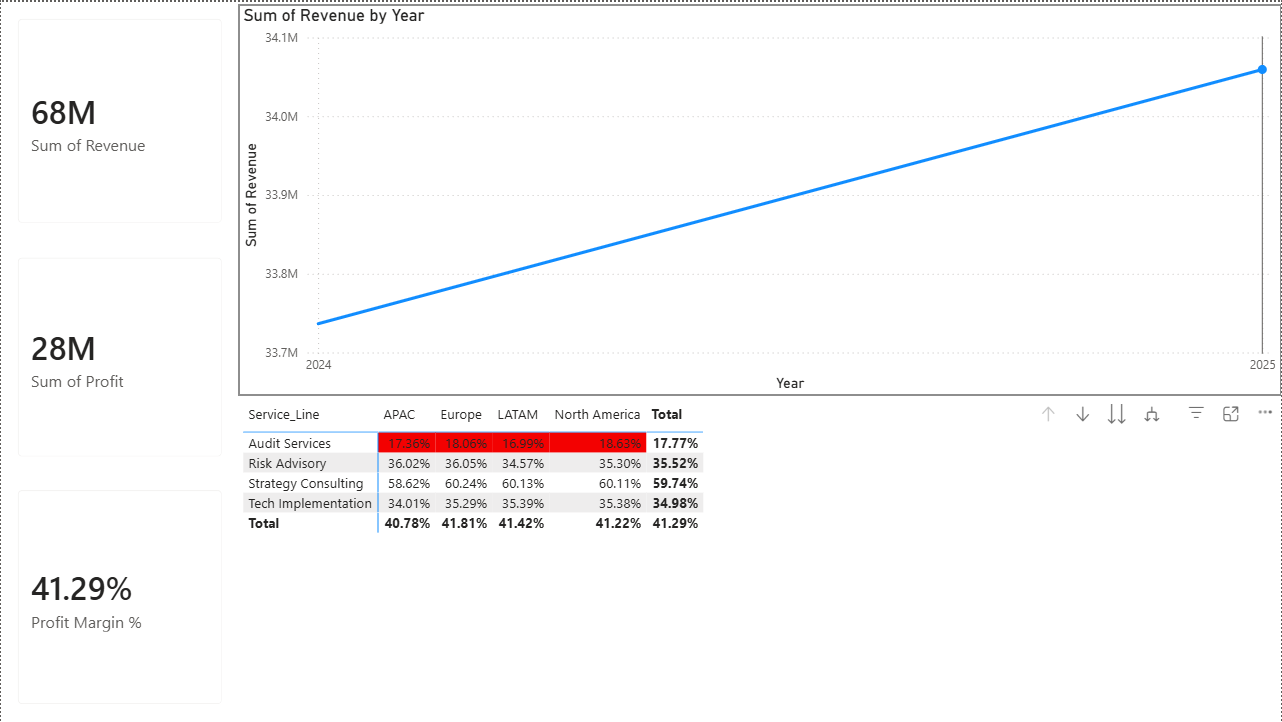

Layout of this report page (visuals, bound fields, positions):
{"tool":"powerbi","page":{"name":"Page 1","canvas":[1280,720],"ordinal":0},"visuals":[{"type":"cardVisual","fields":{"Data":["Sum(consulting_sales_data.Revenue)"]},"box":[0,0,238.3,238.3],"z":0},{"type":"cardVisual","fields":{"Data":["Sum(consulting_sales_data.Profit)"]},"box":[0,238.3,238.3,233.3],"z":1},{"type":"cardVisual","fields":{"Data":["consulting_sales_data.Profit Margin %"]},"box":[0,471.7,238.3,248.3],"z":2},{"type":"lineChart","fields":{"Category":["consulting_sales_data.Date.Variation.Date Hierarchy.Year","consulting_sales_data.Date.Variation.Date Hierarchy.Quarter","consulting_sales_data.Date.Variation.Date Hierarchy.Month","consulting_sales_data.Date.Variation.Date Hierarchy.Day"],"Y":["Sum(consulting_sales_data.Revenue)"]},"box":[238,2,1042,392],"z":3},{"type":"pivotTable","fields":{"Rows":["consulting_sales_data.Service_Line"],"Columns":["consulting_sales_data.Region"],"Values":["consulting_sales_data.Profit Margin %"]},"box":[238,396,478,150],"z":4}]}

Visuals, with their boxes in screenshot pixels (x1, y1, x2, y2):
cardVisual - Sum(consulting_sales_data.Revenue): rect(0, 0, 235, 235)
cardVisual - Sum(consulting_sales_data.Profit): rect(0, 235, 235, 466)
cardVisual - consulting_sales_data.Profit Margin %: rect(0, 466, 235, 711)
lineChart - consulting_sales_data.Date.Variation.Date Hierarchy.Year x consulting_sales_data.Date.Variation.Date Hierarchy.Quarter: rect(235, 2, 1264, 389)
pivotTable - consulting_sales_data.Service_Line x consulting_sales_data.Region: rect(235, 391, 707, 539)
